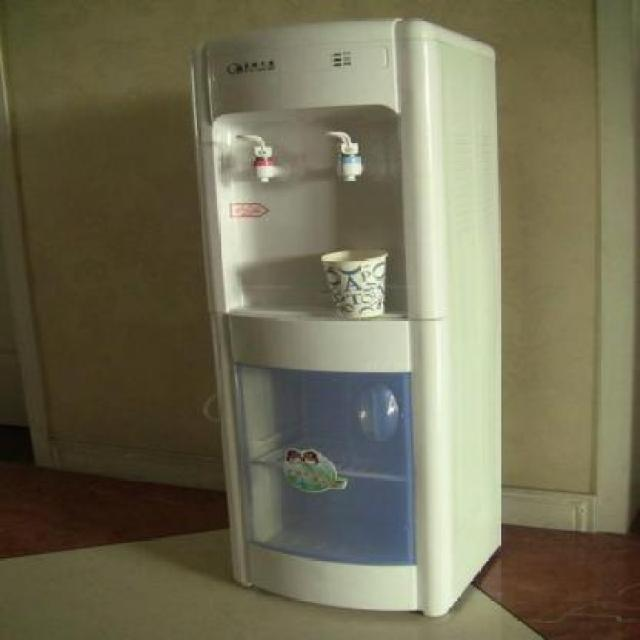cooler: (188, 14, 504, 622)
